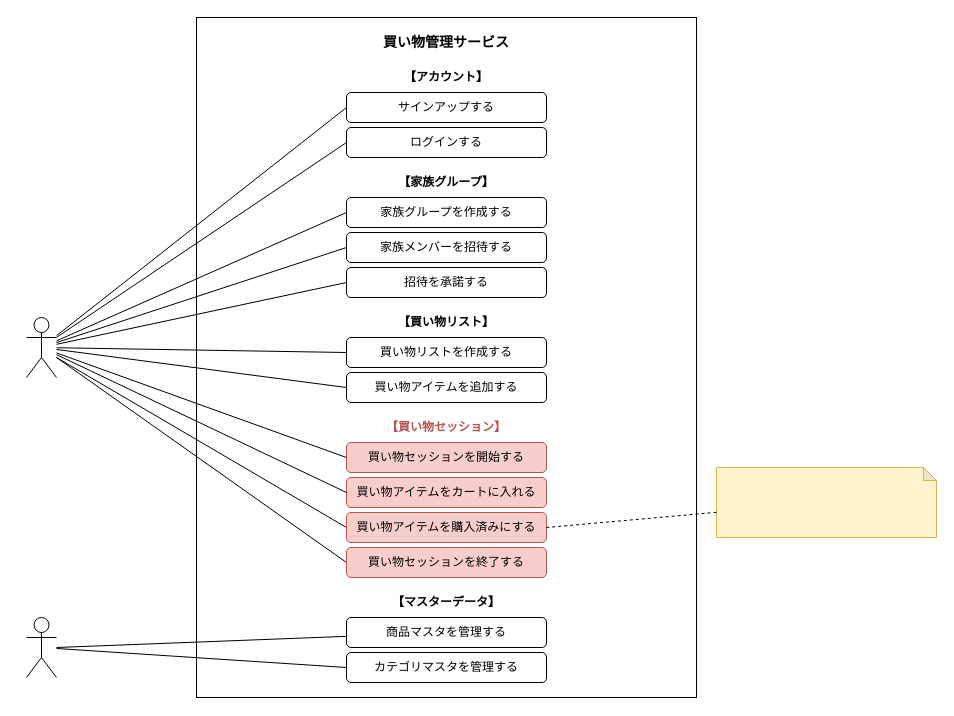
The diagram is 954 pixels wide and 716 high, and some of its shapes have lost their labels. Each missing label, with the box of its shape:
メイン機能: 未購入 → カート → 購入済み の状態遷移を家族間でリアルタイム共有: (716, 466, 936, 538)
ユーザー: (26, 316, 56, 378)
管理者: (26, 616, 56, 678)
